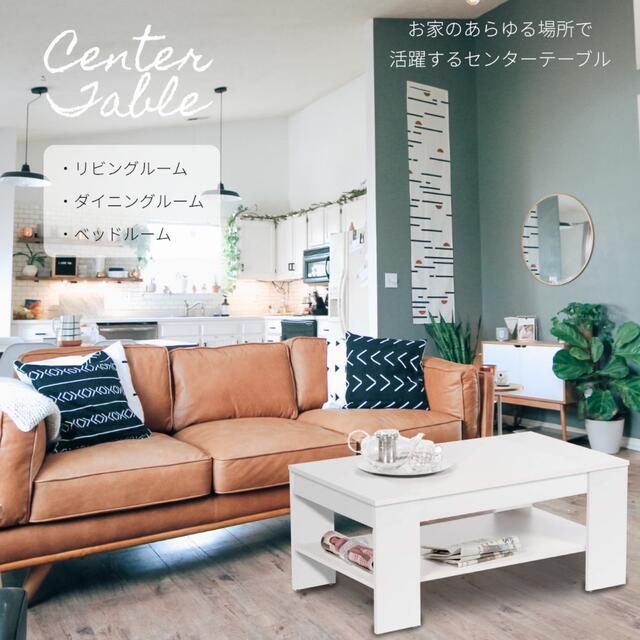white desk: (280, 431, 630, 635)
white sofa: (9, 329, 488, 501)
